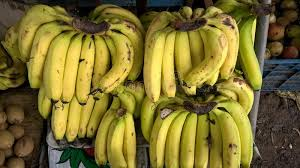looks_good: (6, 2, 268, 168)
